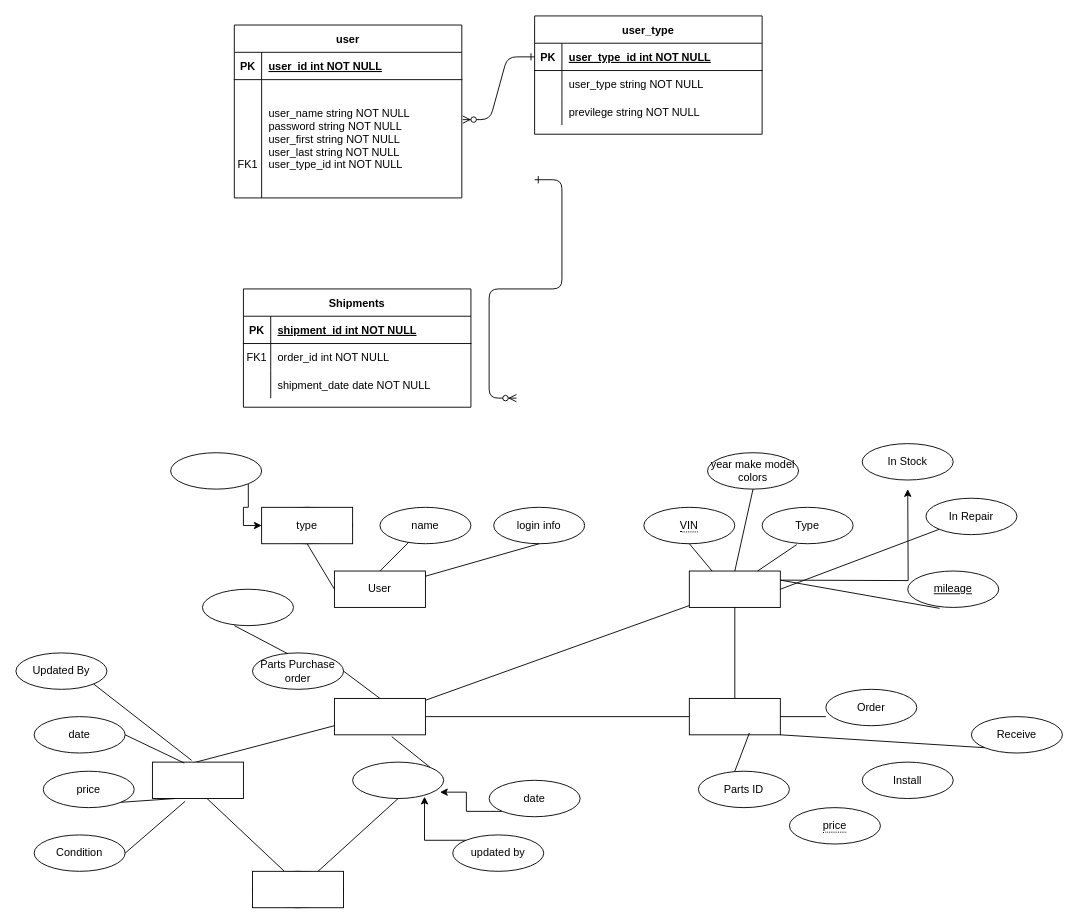
This 1078x924 diagram has some shape labels left out. The centre of each missing label's shape, as x and y in pixels:
Customer: point 298,889
Parts: point 734,716
Parts Vendor: point 247,607
Previledge: point 216,470
Transactions: point 379,716
Vehicle: point 734,588
Vehicle Purchase: point 197,780
Vehicle Sales: point 398,780
